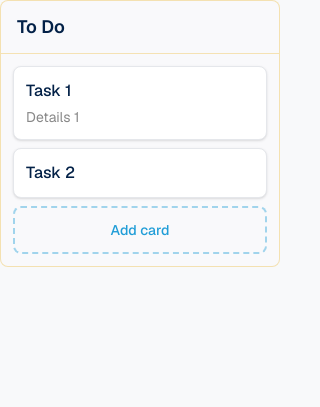
Test case: Column › shows add form when Add card clicked
Click the button "Add card".
click(140, 230)  # box [13,206,267,254]
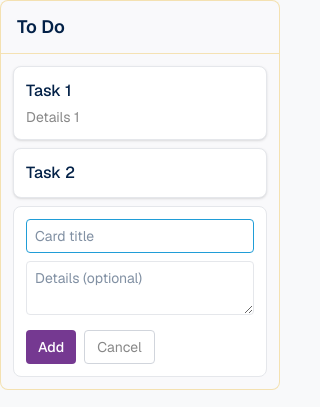
Check: the field with placeholder "Card title" is shown, box [26,219,254,253]
Check: the text box with placeholder "Details (optional)" is shown, box [26,261,254,315]
